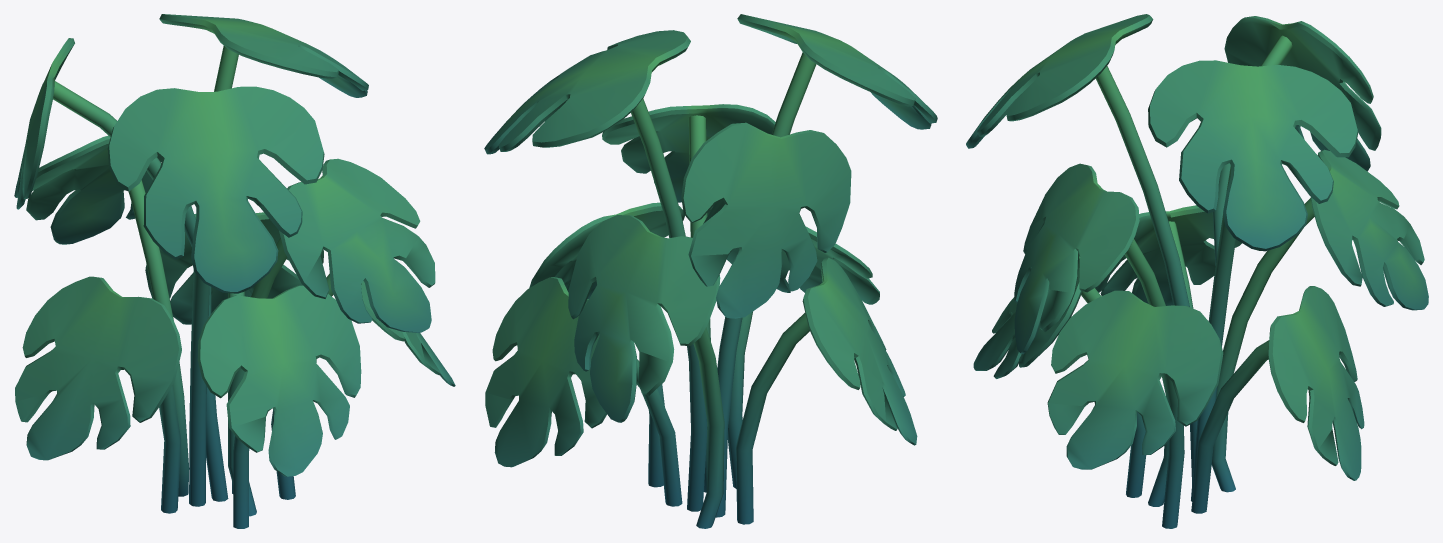
File: plant_monstera.glb
The picture shows the model from 3 angles, left to right: view 1: azimuth 30°, elevation 25°; view 2: azimuth 150°, elevation 25°; view 3: azimuth 270°, elevation 25°; orthographic projection. The views are drawn at different scales.
Parts seen in each view (by area): view 1: monstera_plant_large; view 2: monstera_plant_large; view 3: monstera_plant_large.
Part boxes in pixels (bbox=[...]): monstera_plant_large: bbox=[14, 14, 455, 528]; monstera_plant_large: bbox=[484, 14, 937, 528]; monstera_plant_large: bbox=[966, 14, 1428, 528].
Size of the model in its own units: 2.59 by 2.96 by 2.79.
Materials: 1 (1 with a texture image).
